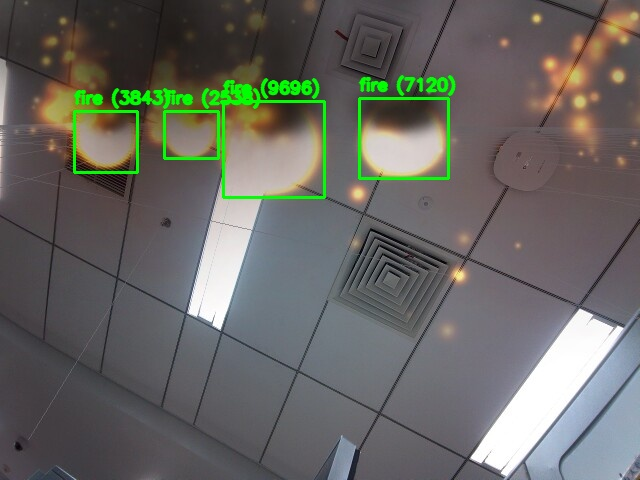fire: (223, 101, 324, 197), (359, 98, 448, 178), (74, 111, 137, 172), (164, 111, 218, 158)
